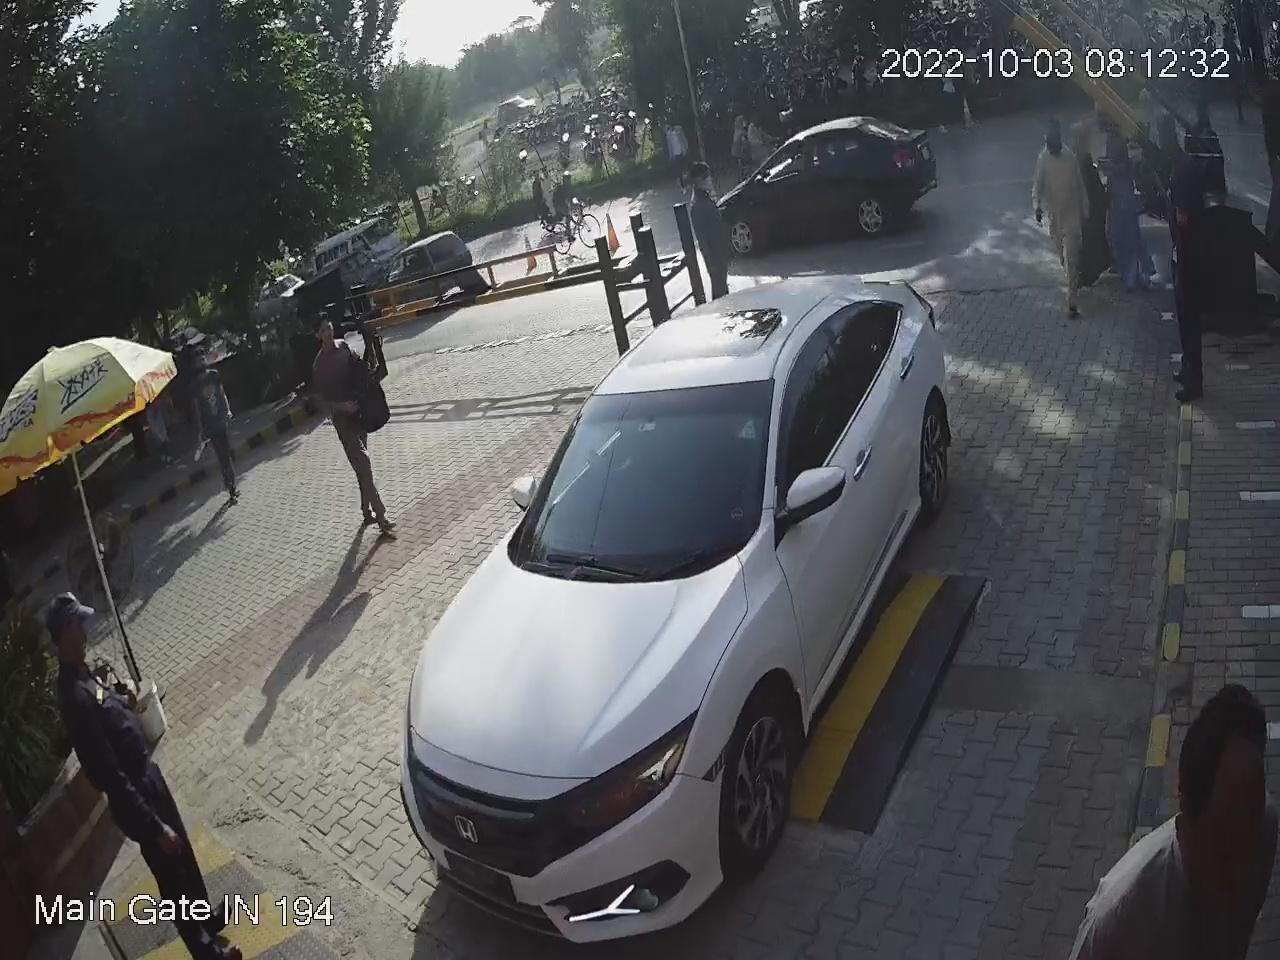windshield: (508, 372, 778, 555)
